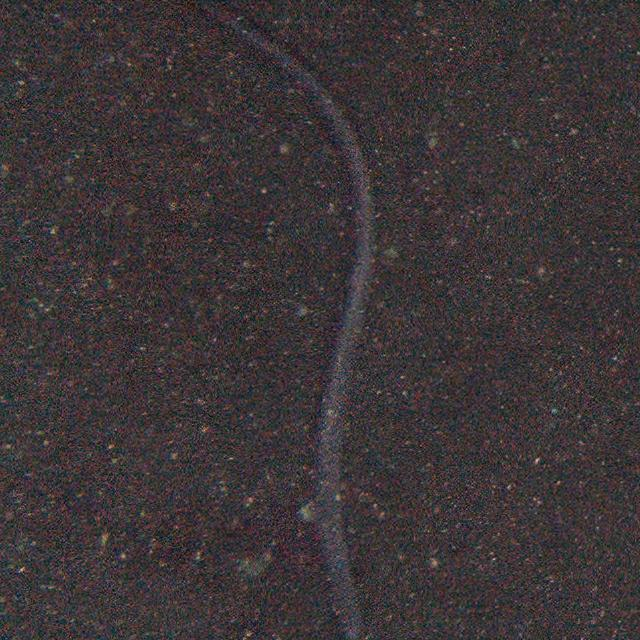eel: (201, 0, 388, 640)
